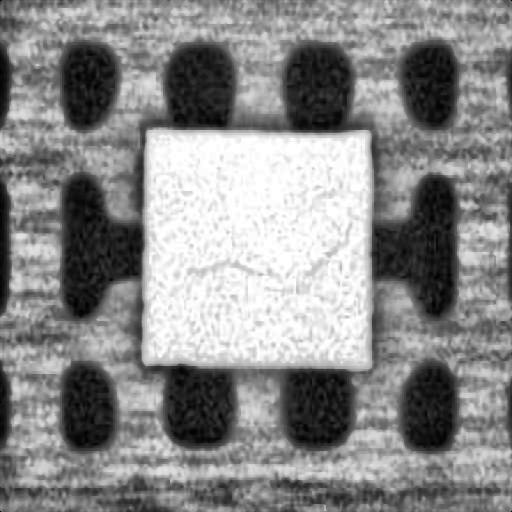DIE_CRACK: (190, 231, 344, 281)
